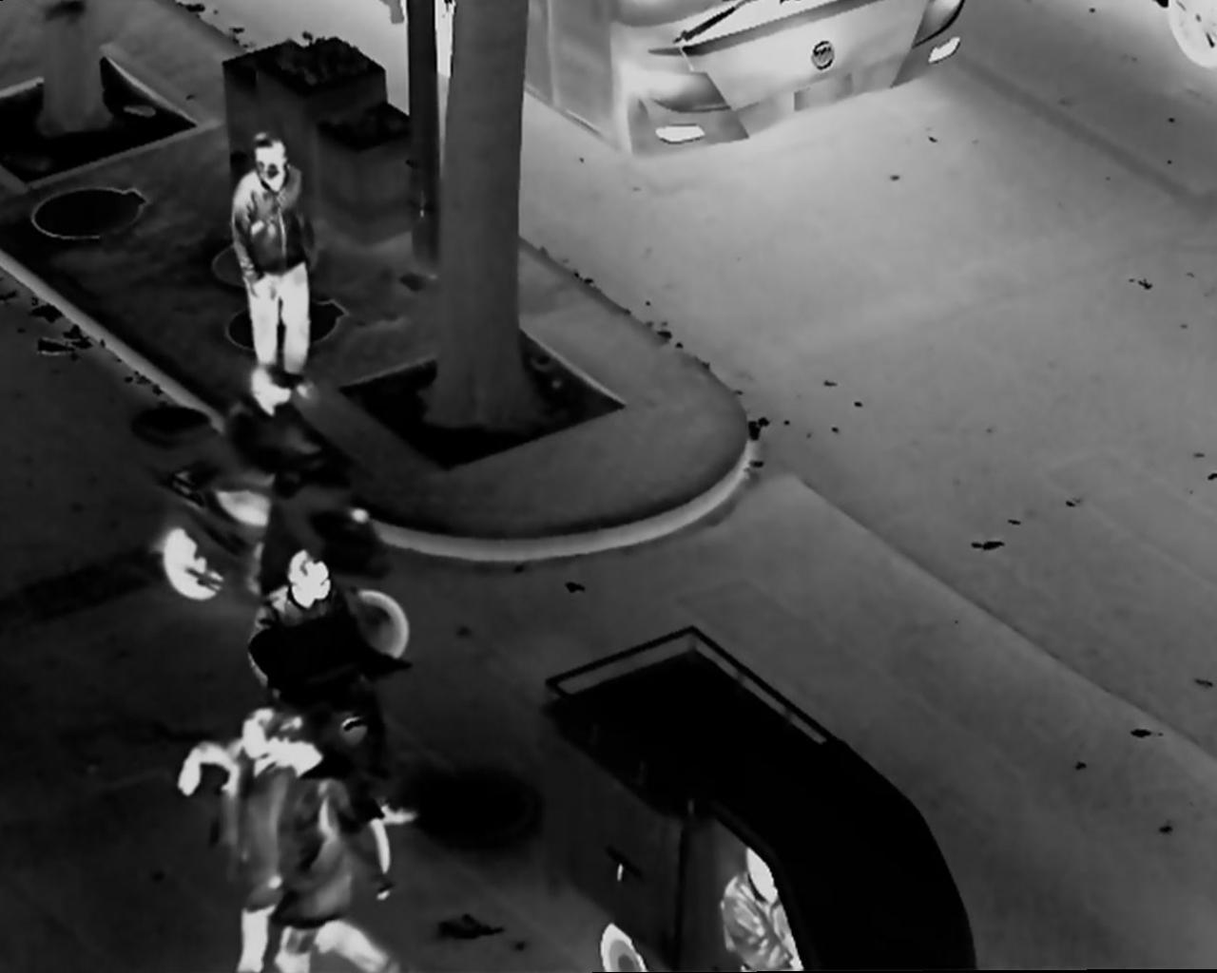person: (239, 538, 403, 750), (269, 718, 398, 973), (221, 359, 358, 598), (184, 706, 295, 973), (222, 125, 325, 395), (708, 842, 798, 973)
